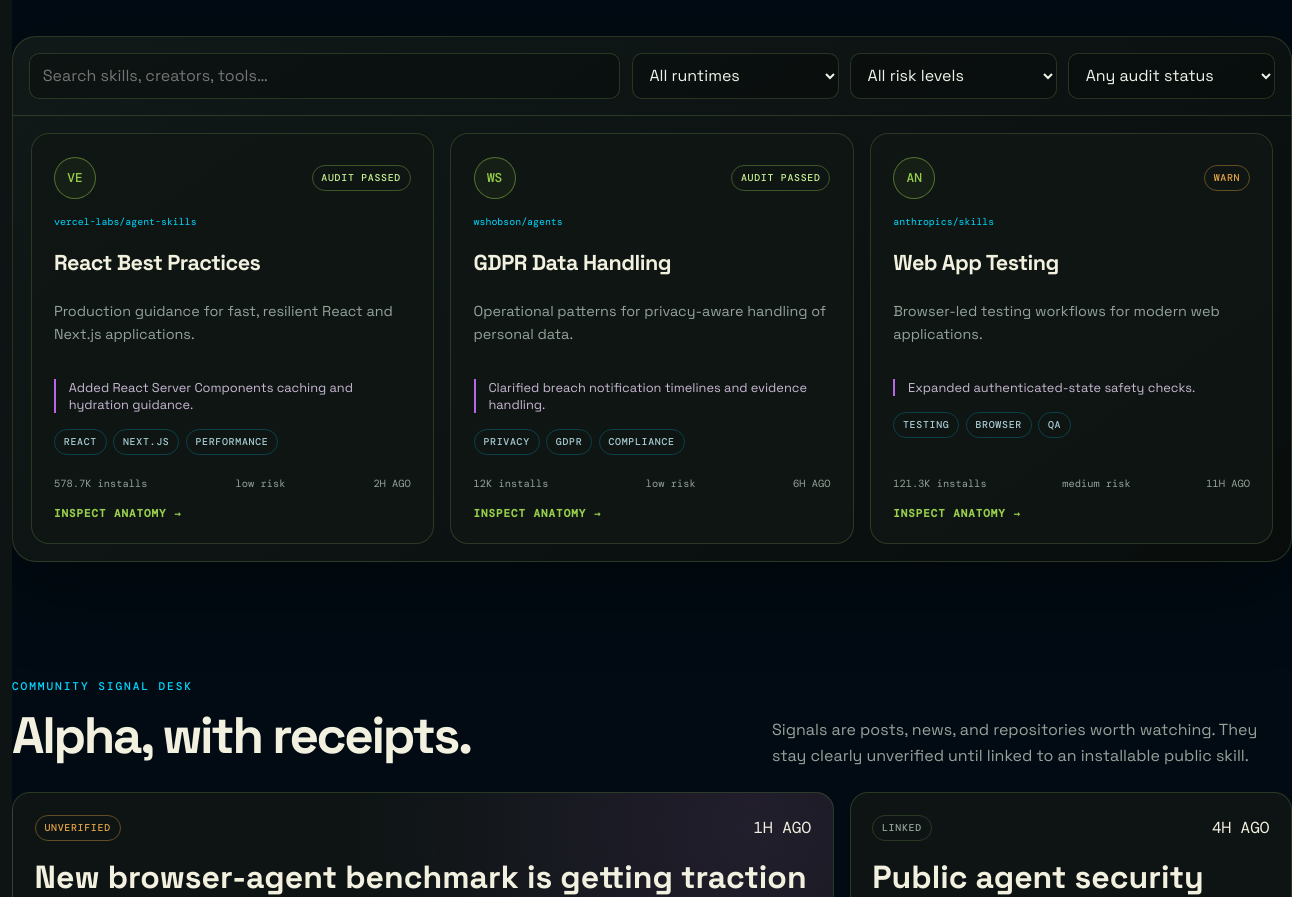
Test case: community radar › searches public catalog cards without mixing signal data
In the field named "Search public skills": {"x": 325, "y": 76} [29,53,620,99], type "gdpr"
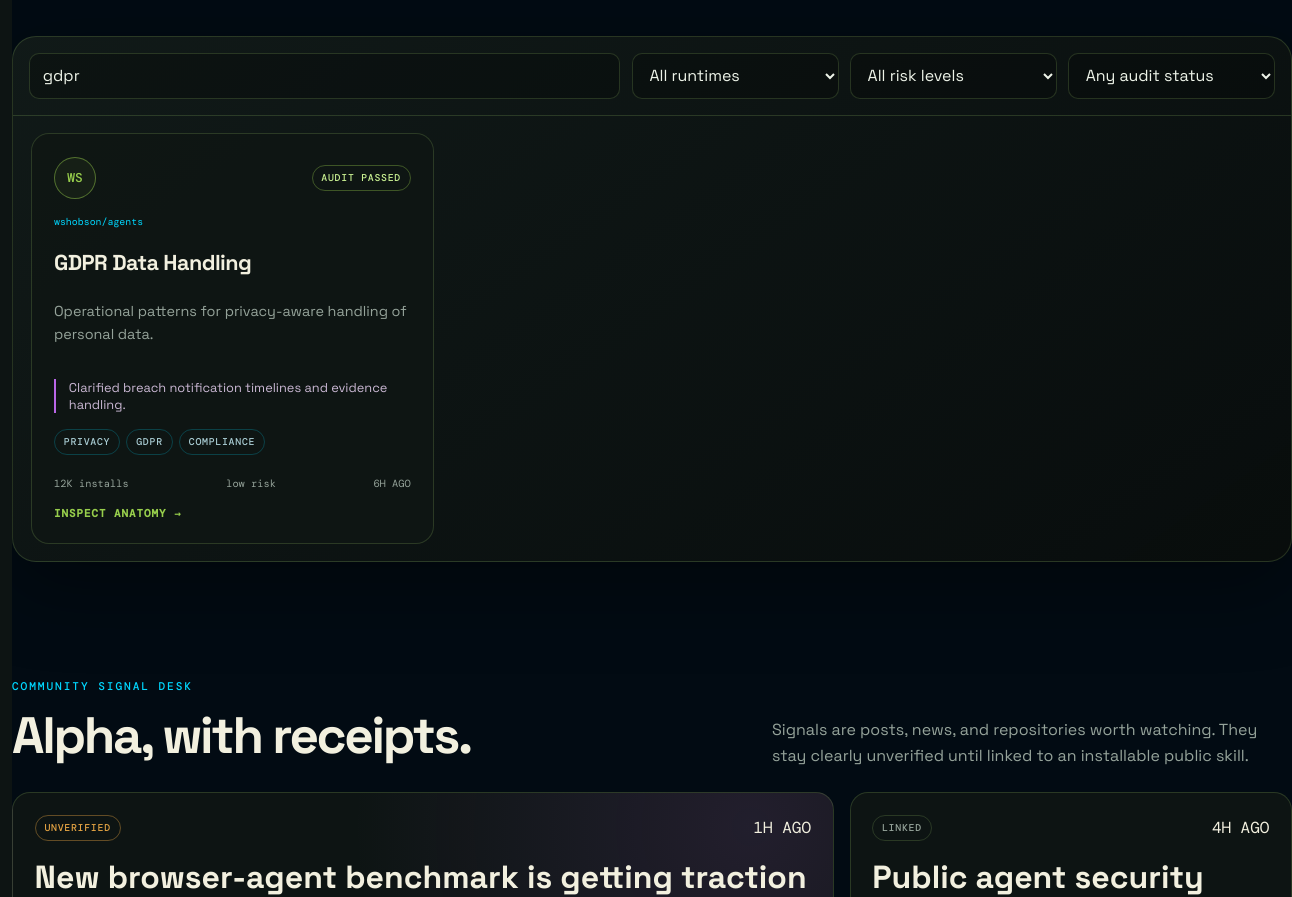
Expected: the heading "GDPR Data Handling" is shown, [54,249,251,276]
Result: the heading "React Best Practices" is gone
